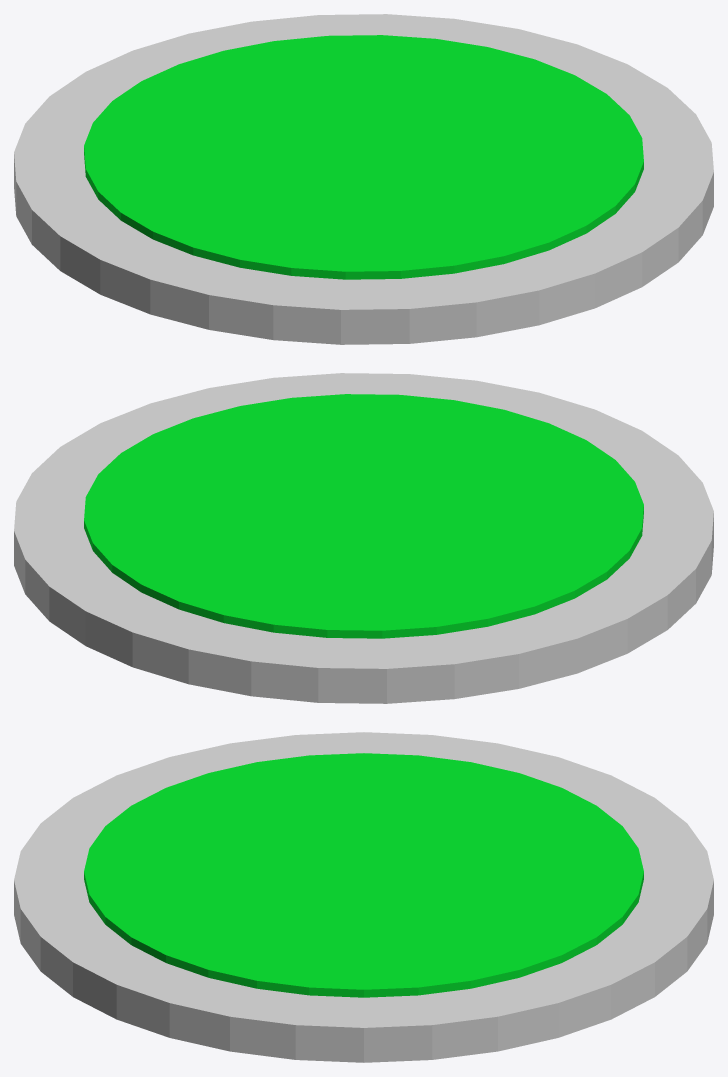
File: DefenceZone.fbx
The picture shows the model from 3 angles, top to bottom: view 1: azimuth 30°, elevation 25°; view 2: azimuth 150°, elevation 25°; view 3: azimuth 270°, elevation 25°; orthographic projection.
Visible parts, largest first — view 1: Cylinder.001; view 2: Cylinder.001; view 3: Cylinder.001.
Part boxes in pixels (x1,y1,x2,y2): Cylinder.001: [14, 14, 713, 344]; Cylinder.001: [14, 373, 713, 703]; Cylinder.001: [14, 732, 713, 1062].
Bounding box in the file's own units: 200 × 13.7 × 200.
